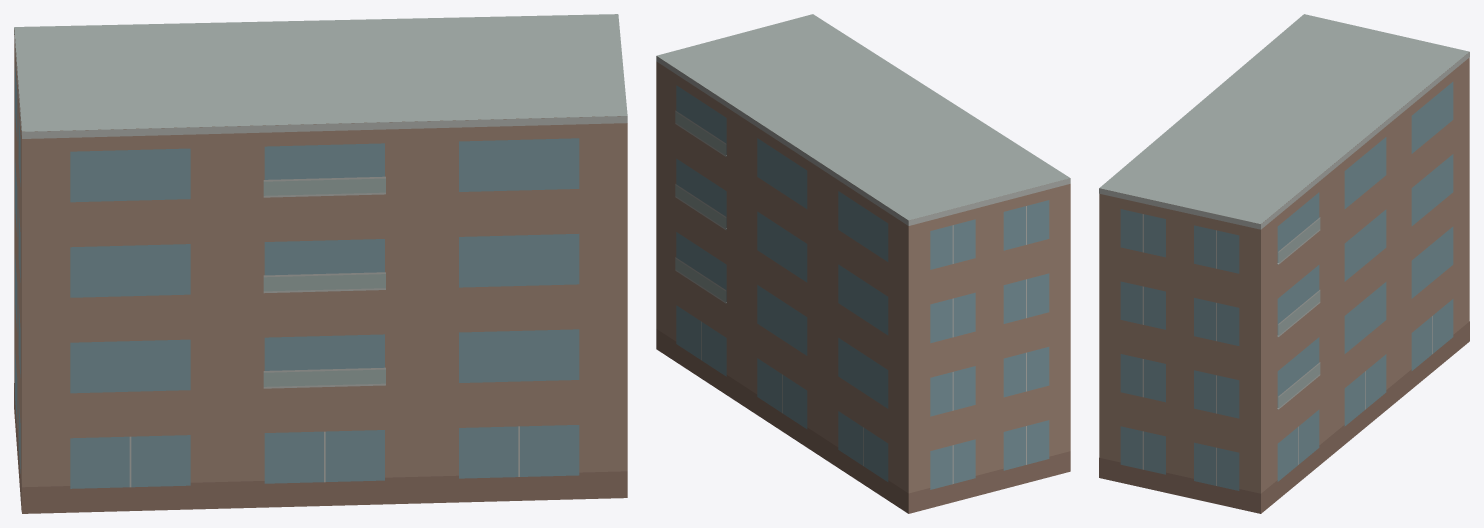
File: survey-upis-32891808.glb
The picture shows the model from 3 angles, left to right: view 1: azimuth 30°, elevation 25°; view 2: azimuth 150°, elevation 25°; view 3: azimuth 270°, elevation 25°; orthographic projection. The views are drawn at different scales.
Parts seen in each view (by area): view 1: survey-upis-32891808.tmp; view 2: survey-upis-32891808.tmp; view 3: survey-upis-32891808.tmp.
Boxes of the visible parts, x1,y1,x2,y2 form: survey-upis-32891808.tmp: [14, 14, 627, 513]; survey-upis-32891808.tmp: [656, 14, 1070, 513]; survey-upis-32891808.tmp: [1099, 14, 1469, 513].
Bounding box in the file's own units: 19.92 × 12.8 × 14.85.
